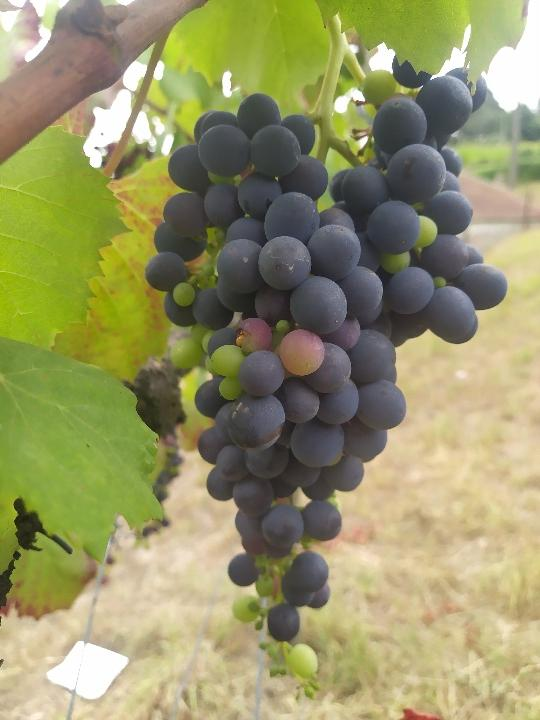grape: (145, 51, 514, 707)
